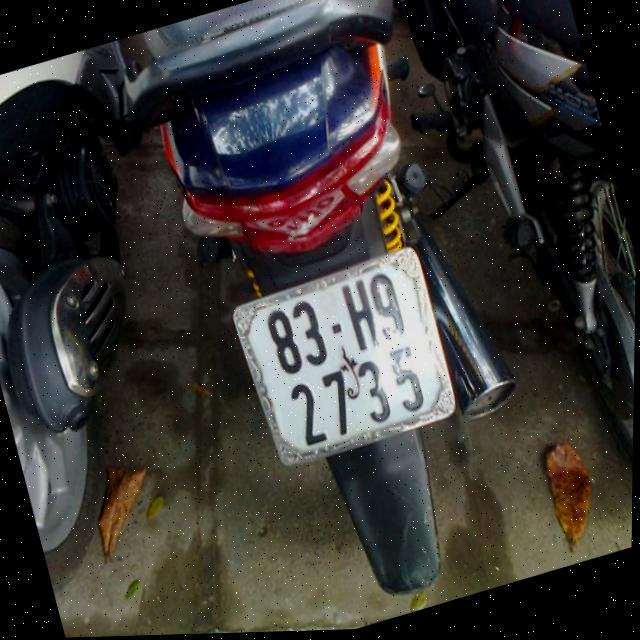motorcycle: (101, 0, 573, 637), (373, 0, 640, 579), (0, 40, 238, 597)
plate: (225, 245, 464, 477)
